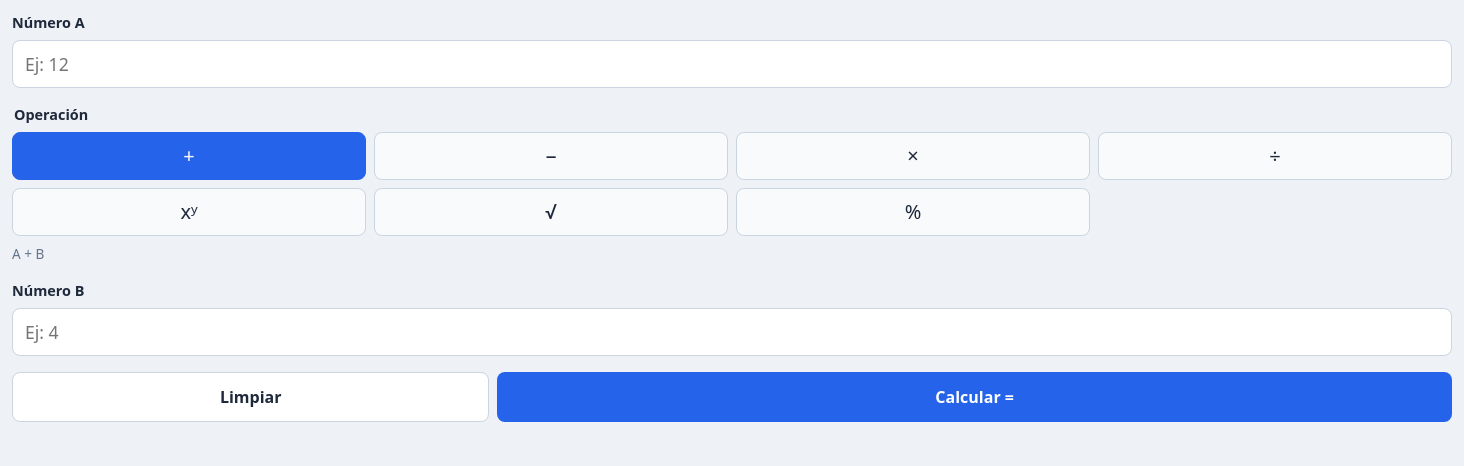
Scenario: CalculatorForm › al pasar a raíz cuadrada se quita el error de B
In the field labelled "Número A": (732, 64) [12,40,1452,88], type "9"
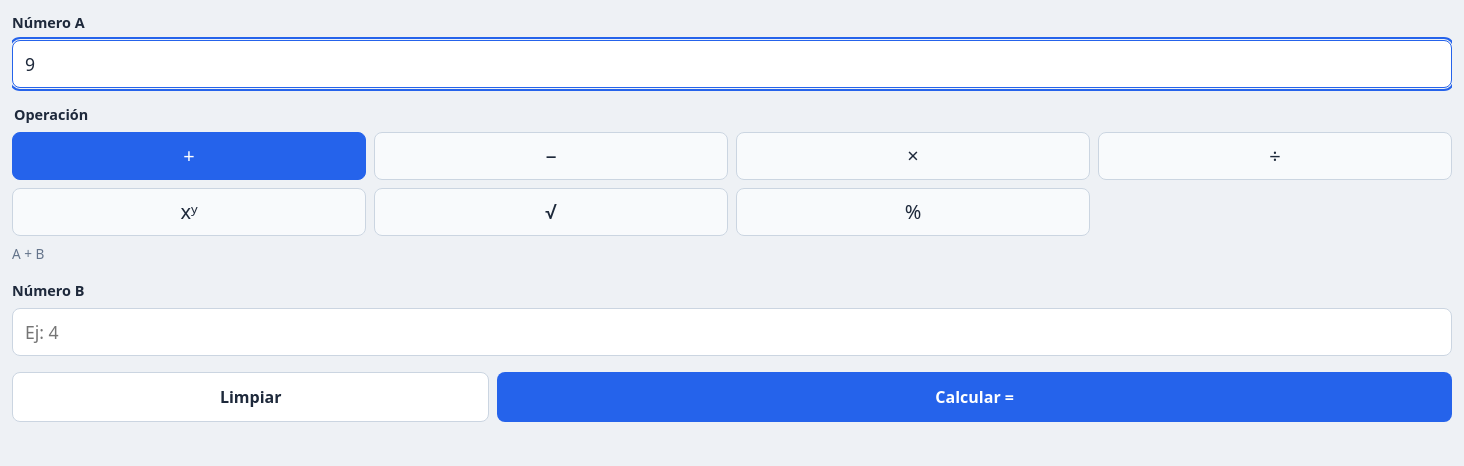
Click the button "Calcular =": (975, 397) [497,372,1452,422]
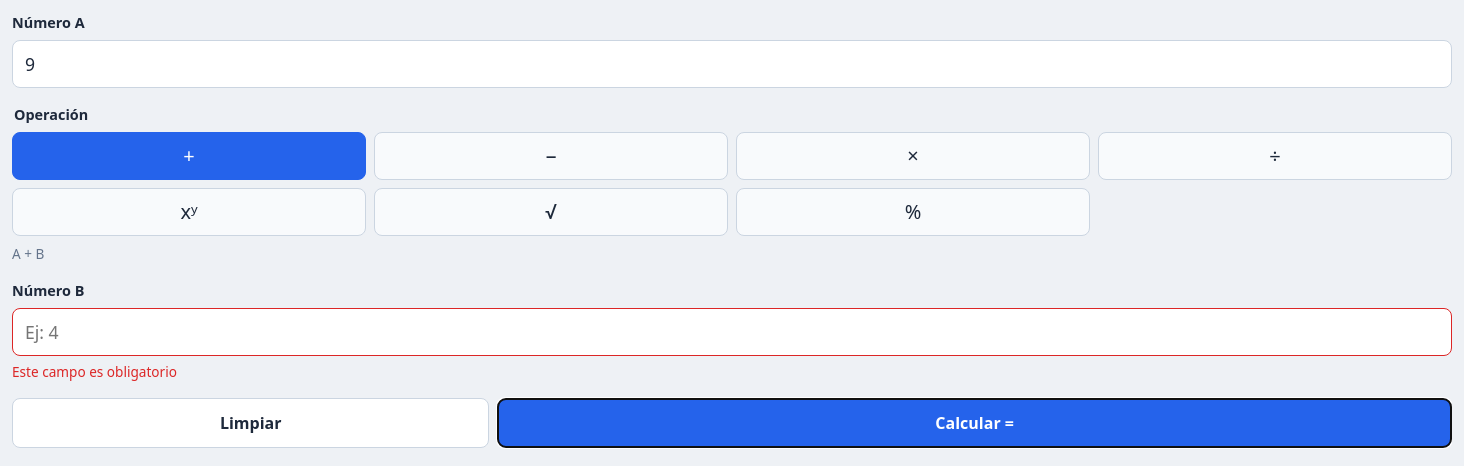
Expected: the text "Este campo es obligatorio" is shown, [12,362,177,381]
Click the radio button named "Raíz cuadrada": (551, 212) [374,188,728,236]
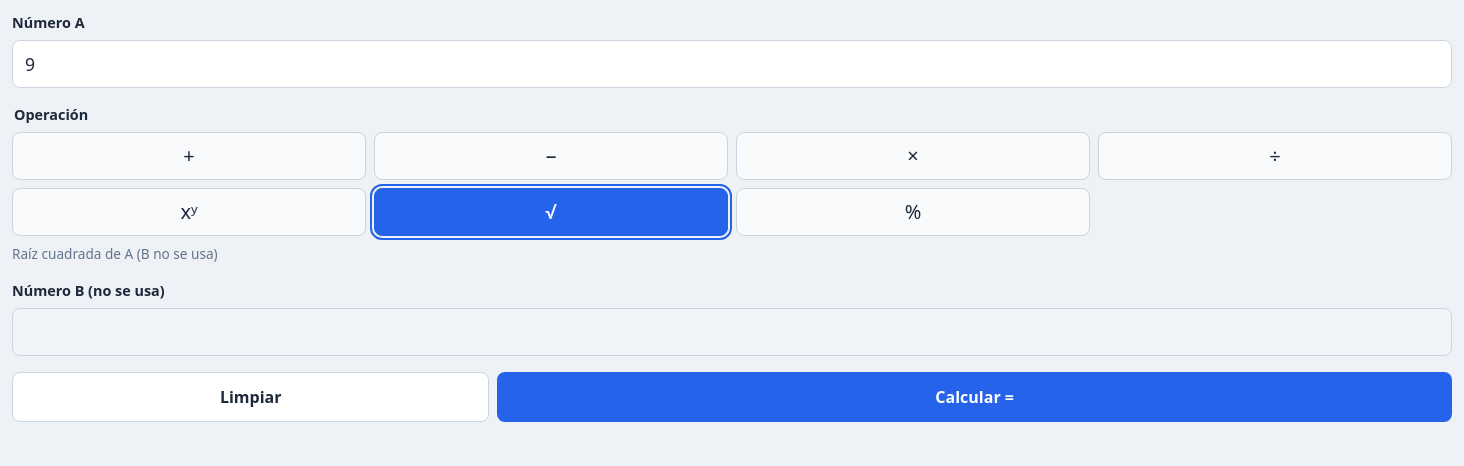
Expected: the text "Este campo es obligatorio" is gone
